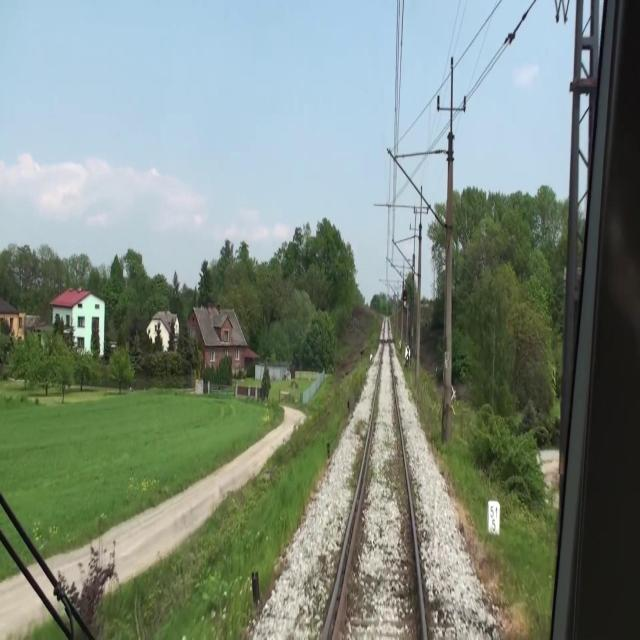rail-track: (336, 319, 422, 639)
